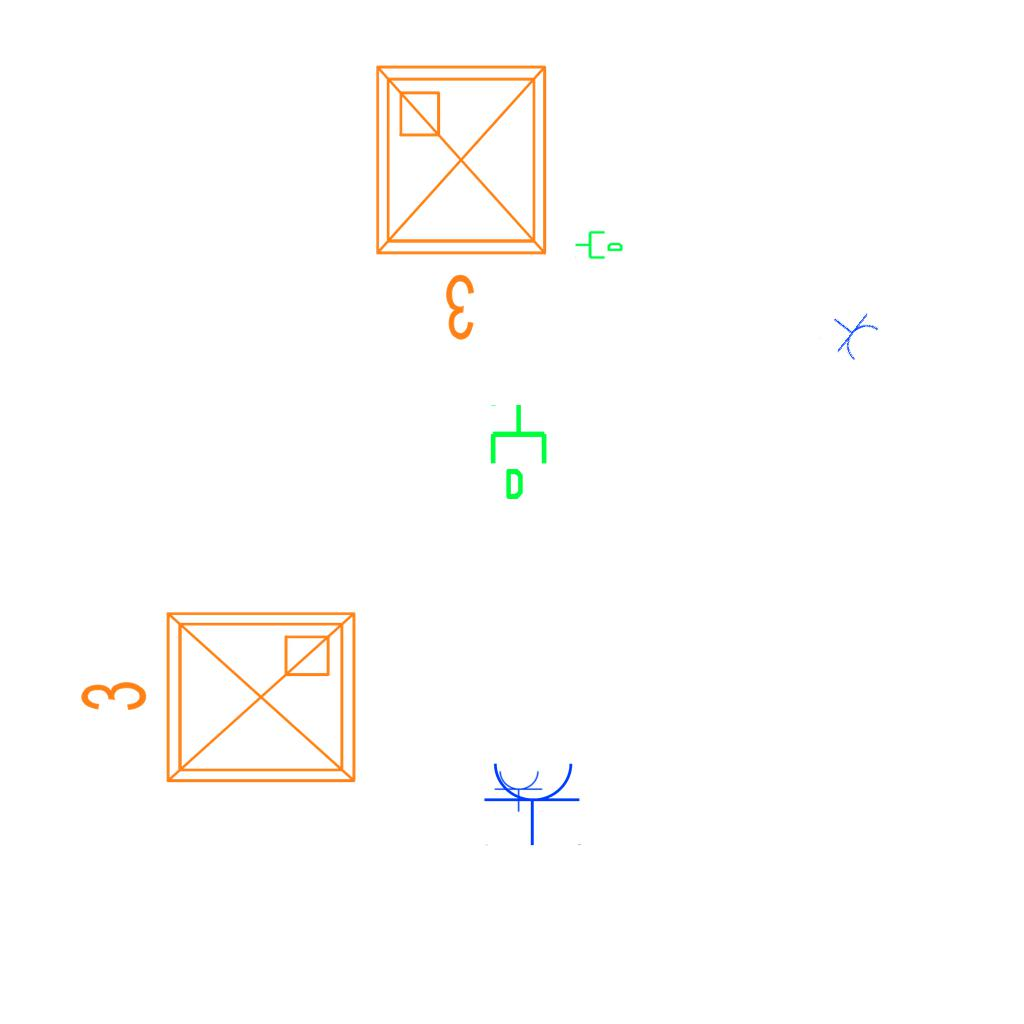Datenanschluss_einfach: (486, 402, 555, 502), (574, 227, 624, 261)
Einbaudownlights_LED_Konferenzraeume: (70, 597, 370, 805), (361, 51, 569, 351)
Schukosteckdose_einfach: (483, 759, 583, 846), (818, 299, 884, 366), (494, 769, 544, 812)
